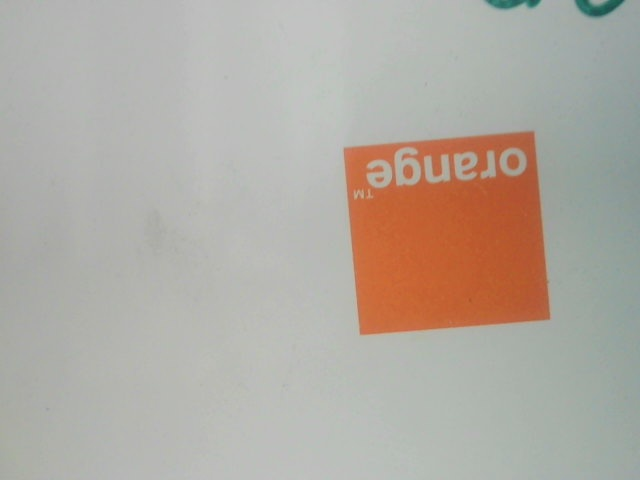AR_Orange: (334, 124, 565, 345)
